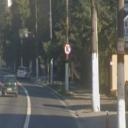NoEstacionar: (63, 43, 72, 57)
